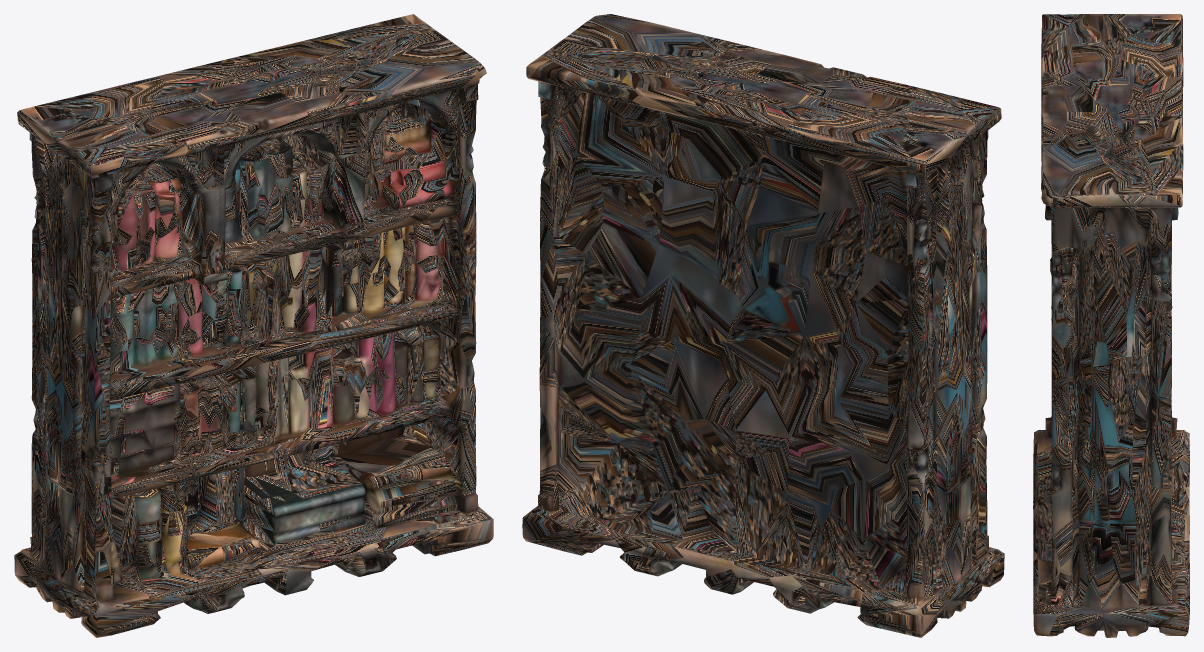
File: lib_bookshelf.lod.glb
3 views of the same model, side by side, from view 1: azimuth 30°, elevation 25°; view 2: azimuth 150°, elevation 25°; view 3: azimuth 270°, elevation 25° (orthographic). The views are drawn at different scales.
Size of the model in its own units: 1.68 by 1.9 by 0.6108.
Materials: 1 (1 with a texture image).
